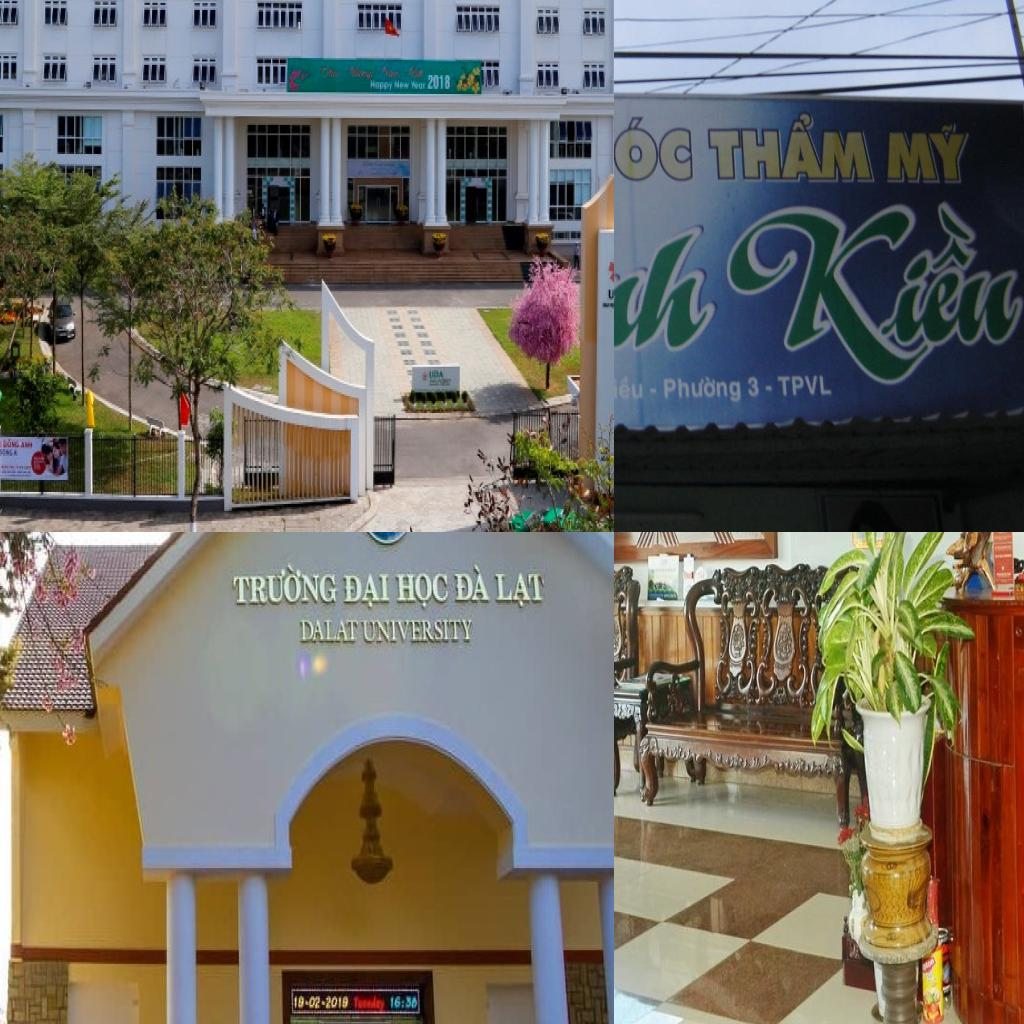text: (723, 196, 1024, 403), (614, 200, 718, 365), (705, 110, 876, 186), (614, 111, 696, 185), (885, 121, 972, 185), (231, 564, 339, 608), (360, 618, 474, 646), (662, 374, 744, 405), (396, 570, 451, 612), (494, 570, 547, 612), (344, 570, 392, 612), (298, 618, 361, 648), (454, 562, 493, 605), (294, 994, 350, 1012), (614, 371, 645, 402), (389, 994, 419, 1012), (427, 74, 452, 92), (746, 374, 762, 400), (369, 79, 394, 92), (411, 79, 428, 94), (393, 79, 411, 92), (3, 439, 20, 451), (429, 368, 445, 380), (20, 440, 34, 451), (608, 287, 614, 301), (0, 439, 3, 451)
